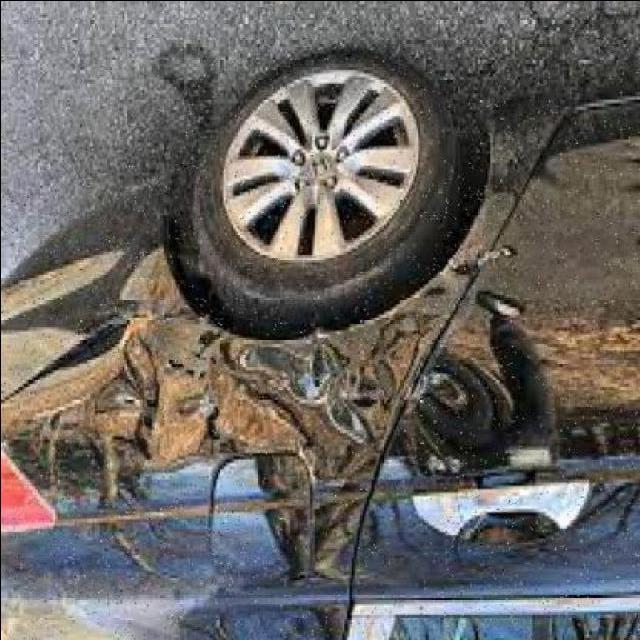quaterpanel-dent: (3, 237, 359, 607)
